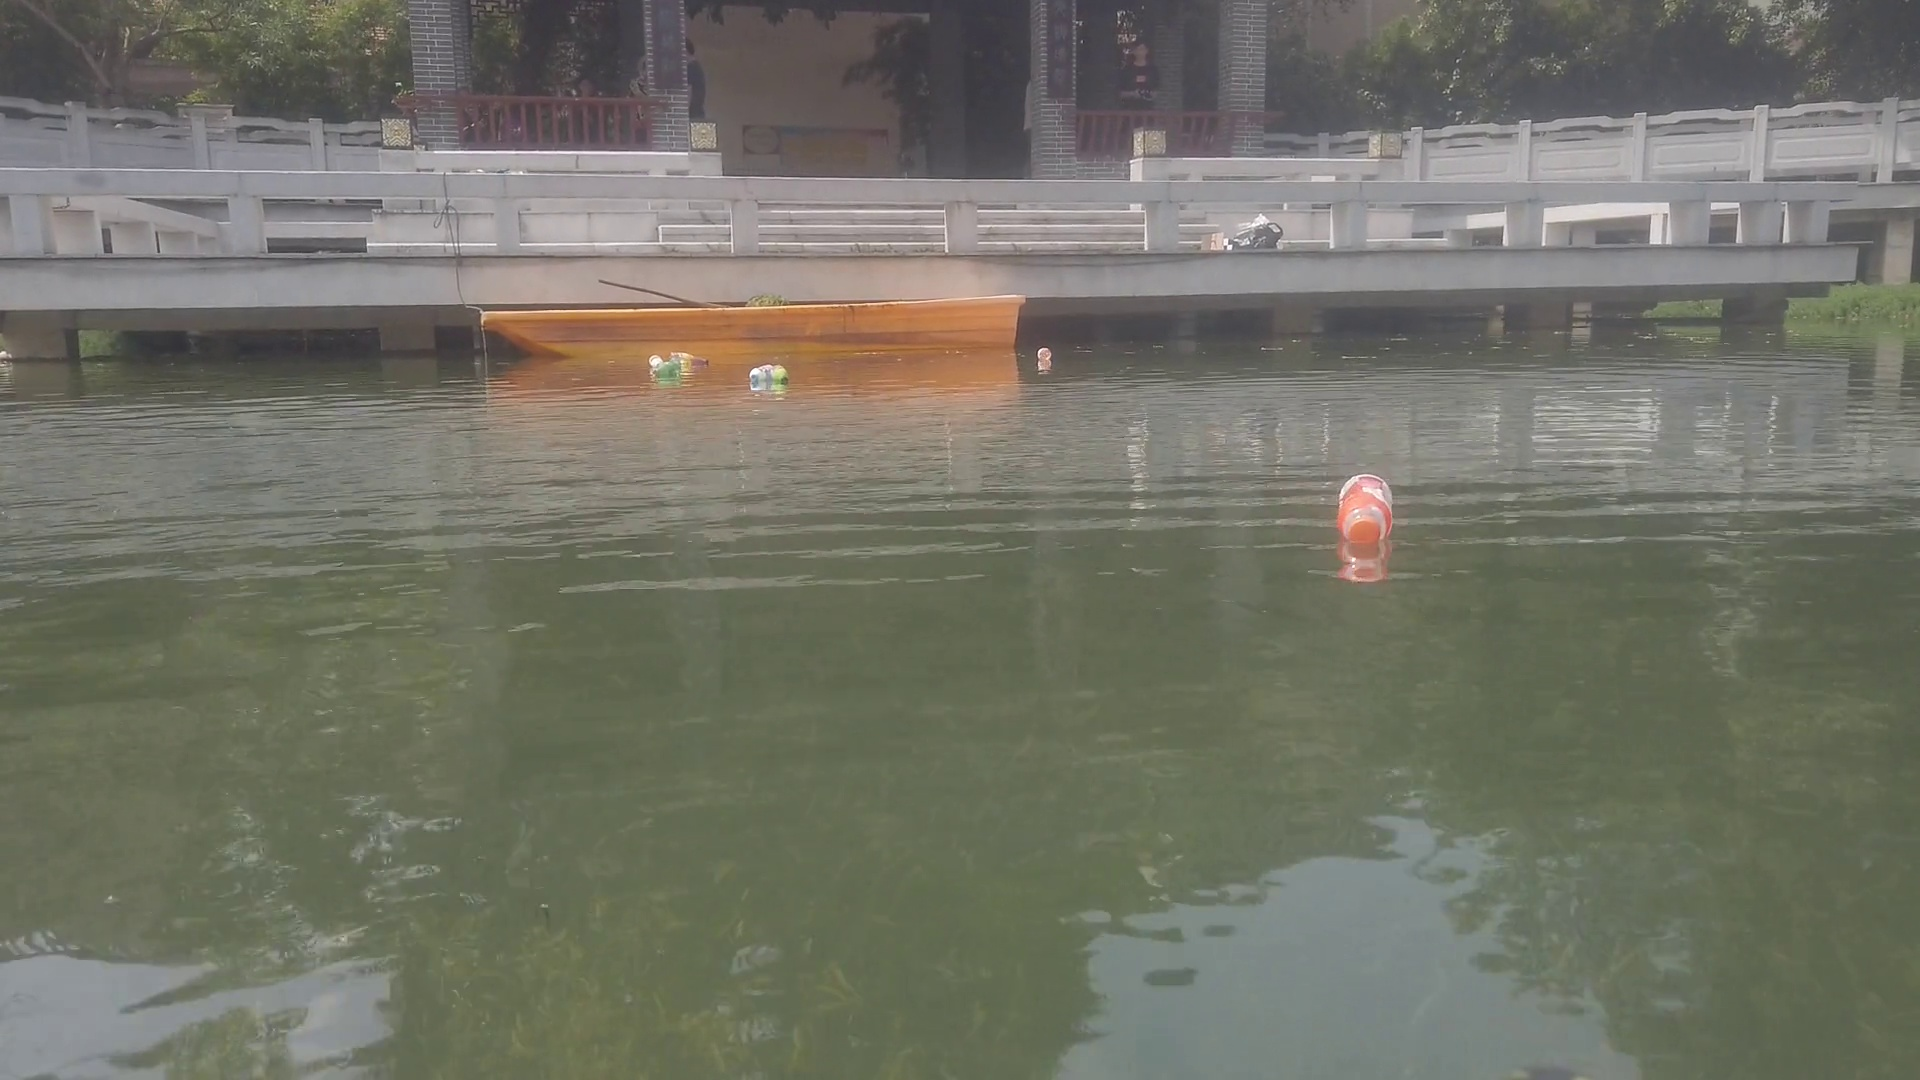bottle: (1337, 473, 1391, 539), (670, 348, 713, 367), (749, 367, 771, 388), (773, 364, 793, 386), (659, 364, 679, 380), (1036, 348, 1051, 363), (647, 355, 665, 367)
